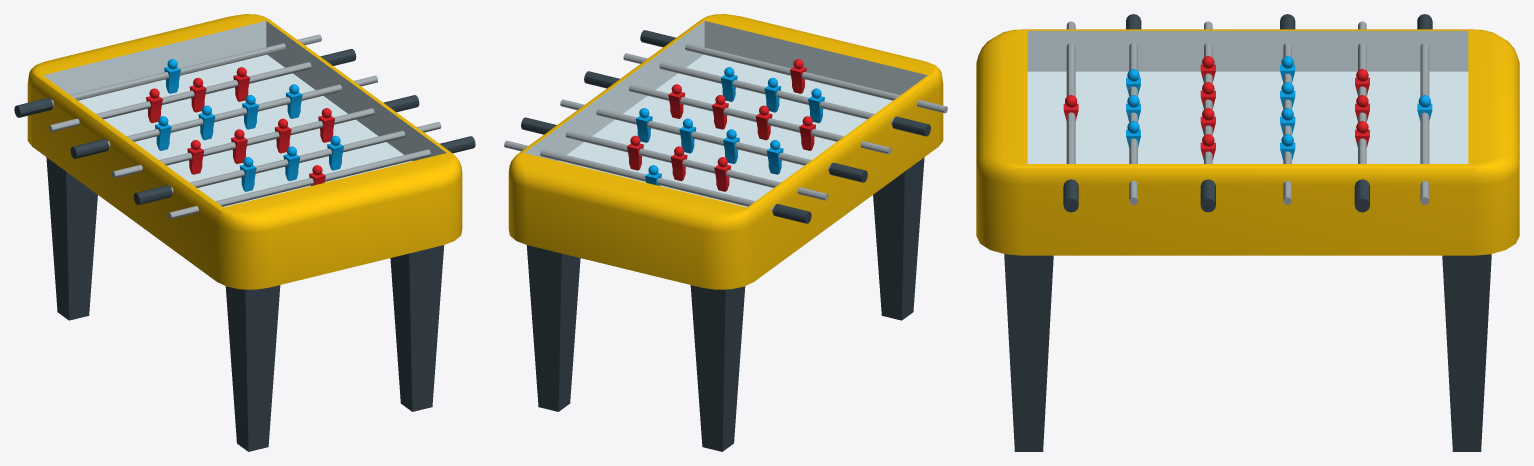
The picture shows the model from 3 angles, left to right: view 1: azimuth 30°, elevation 25°; view 2: azimuth 150°, elevation 25°; view 3: azimuth 270°, elevation 25°; orthographic projection. The views are drawn at different scales.
Parts seen in each view (by area): view 1: Foosball; view 2: Foosball; view 3: Foosball.
Boxes of the visible parts, x1,y1,x2,y2 form: Foosball: [14, 14, 475, 451]; Foosball: [504, 14, 947, 451]; Foosball: [976, 14, 1519, 451].
Bounding box in the file's own units: 4.2 × 3.2 × 5.22.
Materials: 1 (1 with a texture image).
